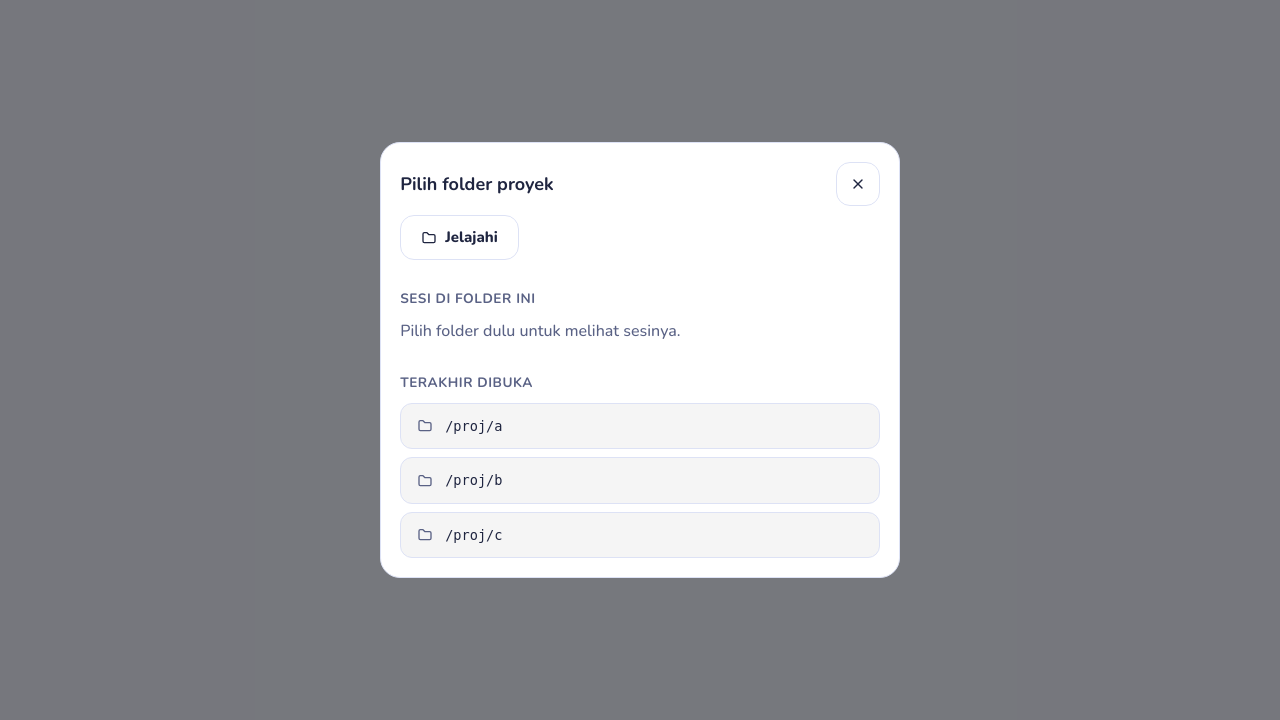
Test: Onboarding folder+sesi › sesi difilter per folder (termasuk varian trailing slash)
This screenshot has width=1280, height=720.
Click the button with test id "recent-/proj/a" at [474, 426], box [400,403,880,449]
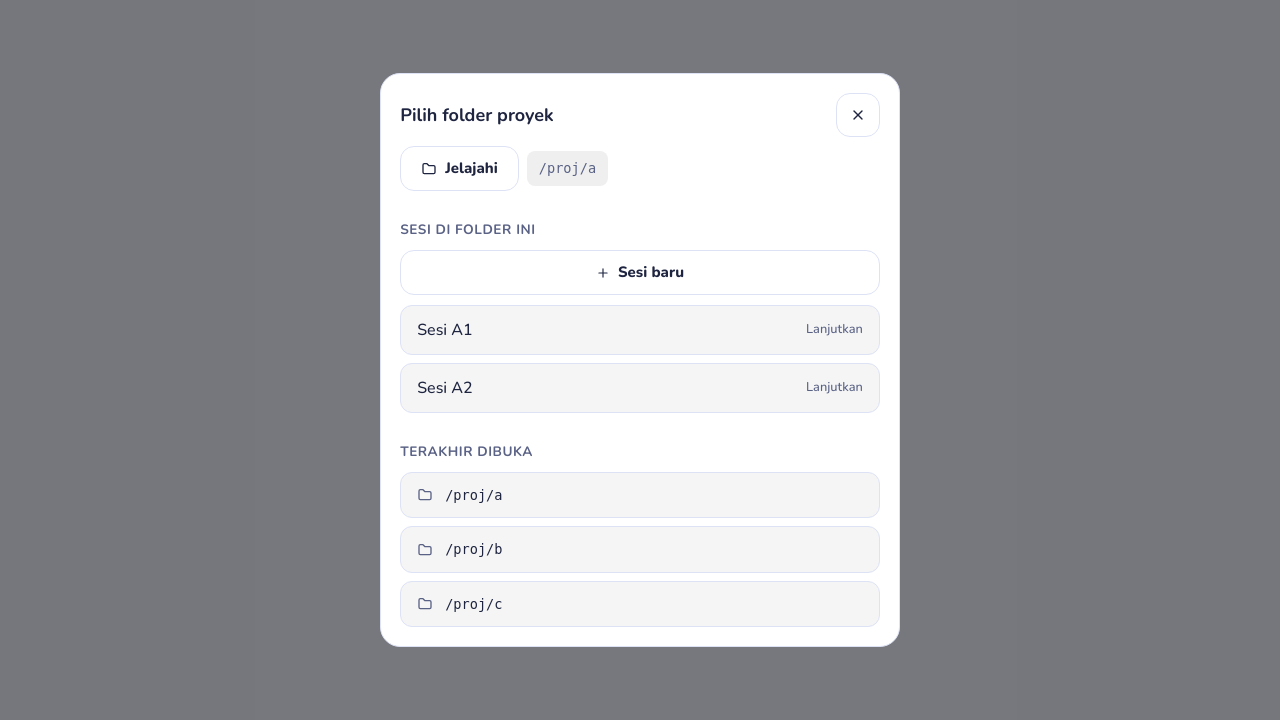
Expected: the button with test id "sess-s1" is shown, [400,304,880,354]
Expected: the button with test id "sess-s2" is shown, [400,362,880,412]
